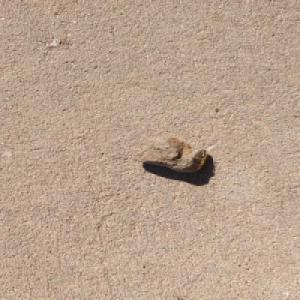Rock: (129, 134, 208, 172)
